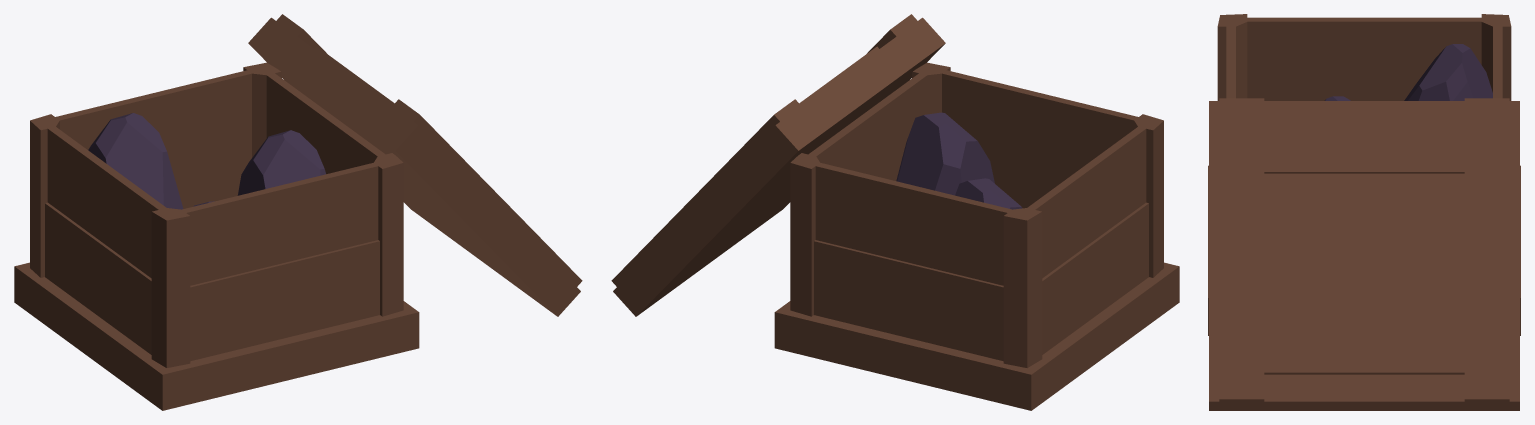
The model's file is woodbox_3.fbx.
3 renders of one model, left to right at view 1: azimuth 30°, elevation 25°; view 2: azimuth 150°, elevation 25°; view 3: azimuth 270°, elevation 25°, orthographic. The views are drawn at different scales.
Parts seen in each view (by area): view 1: Wood_box_3; view 2: Wood_box_3; view 3: Wood_box_3.
Boxes of the visible parts, box(x1,y1,x2,y2) form: Wood_box_3: box(14, 14, 582, 410); Wood_box_3: box(611, 14, 1179, 410); Wood_box_3: box(1208, 14, 1520, 410).
Bounding box in the file's own units: 273 × 142 × 165.
